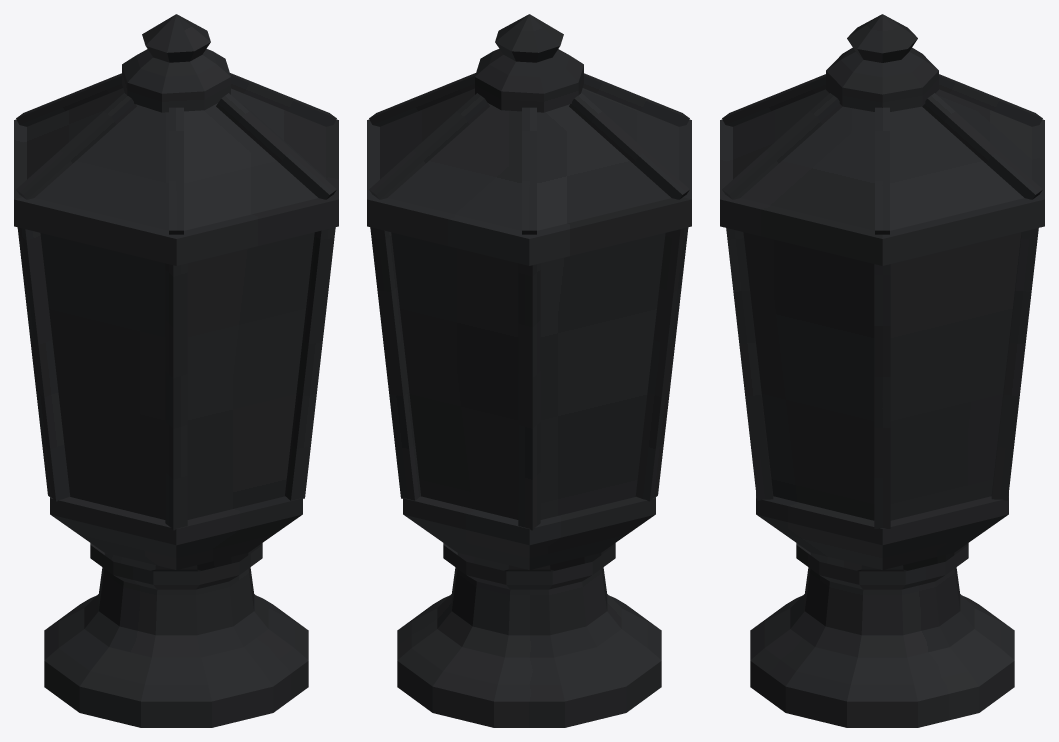
The model's file is decolight_lawestwoodlantern.obj.
3 views of the same model, side by side, from view 1: azimuth 30°, elevation 25°; view 2: azimuth 150°, elevation 25°; view 3: azimuth 270°, elevation 25° (orthographic).
Visible parts, largest first — view 1: decolight_lawestwoodlantern; view 2: decolight_lawestwoodlantern; view 3: decolight_lawestwoodlantern.
Boxes of the visible parts, left/top/right/bottom form: decolight_lawestwoodlantern: left=14, top=14, right=338, bottom=727; decolight_lawestwoodlantern: left=367, top=14, right=691, bottom=727; decolight_lawestwoodlantern: left=720, top=14, right=1044, bottom=727.
Bounding box in the file's own units: 0.7875 × 1.52 × 0.682.
